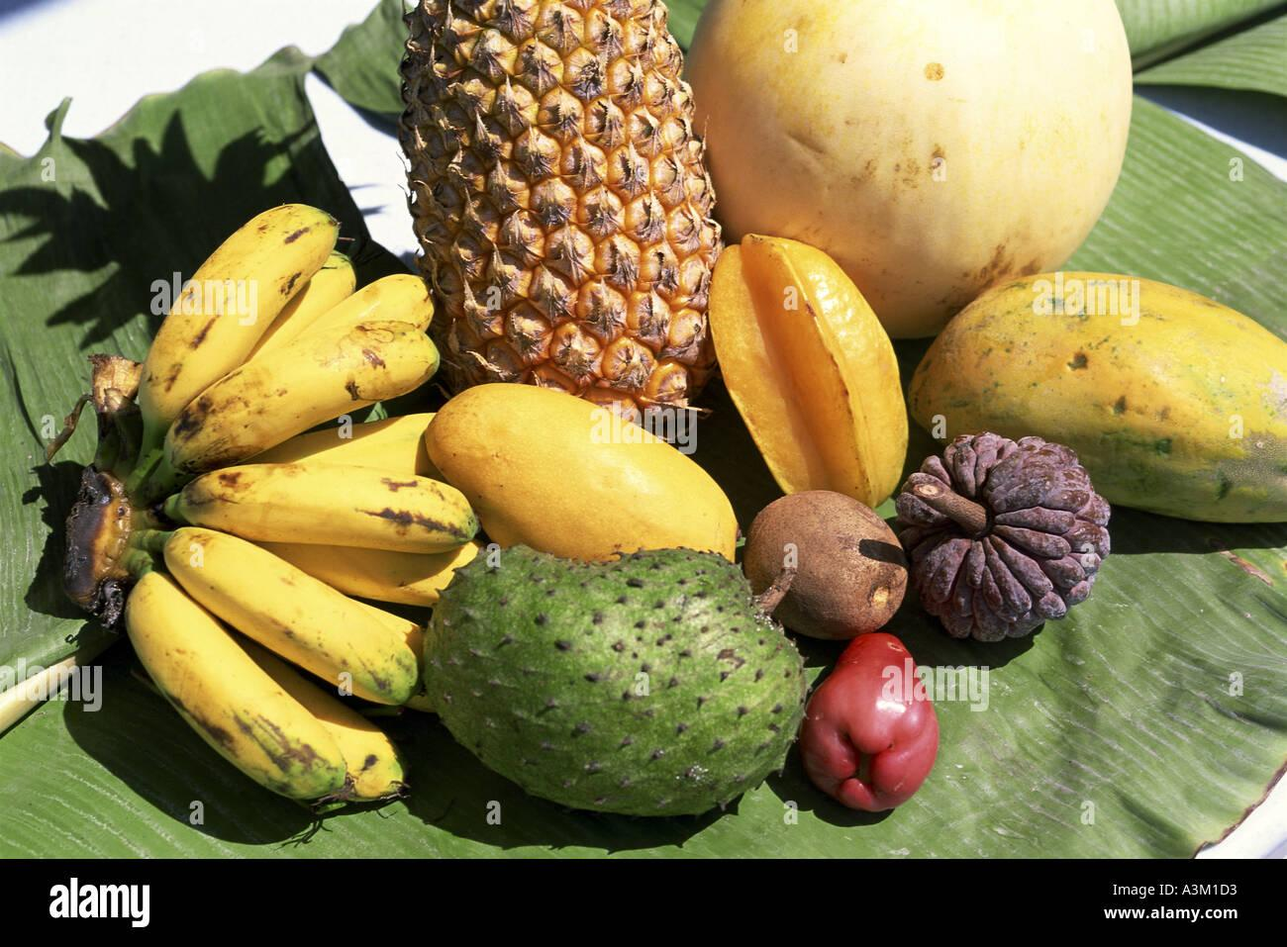chuoi: (97, 189, 457, 827)
